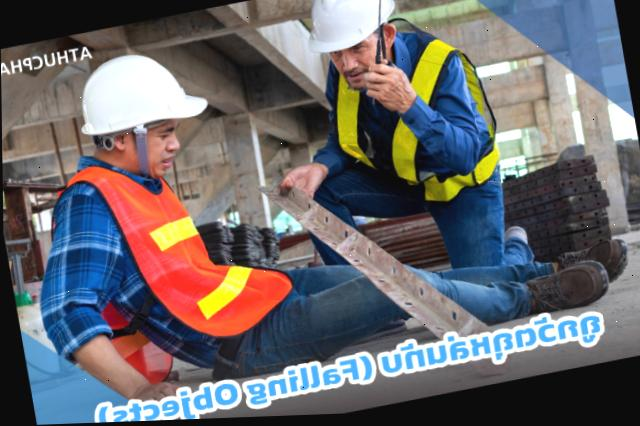helmet: (66, 36, 210, 142), (297, 0, 405, 61)
vest: (59, 137, 287, 365), (324, 37, 495, 223)
